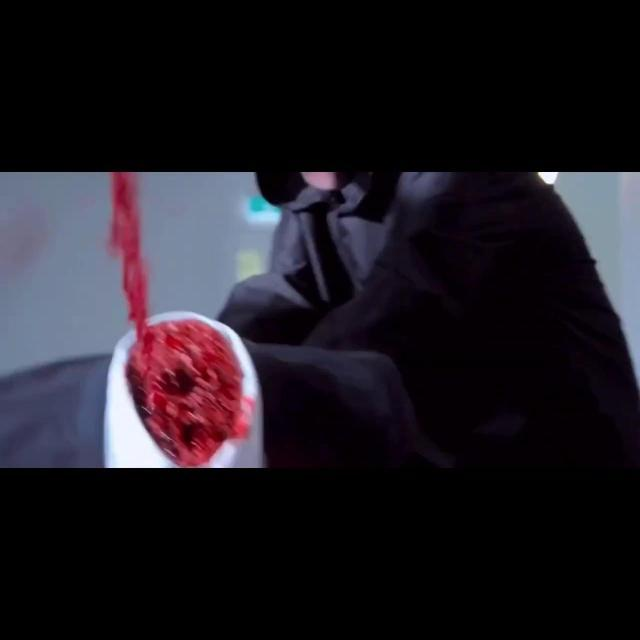blood: (110, 172, 254, 466)
